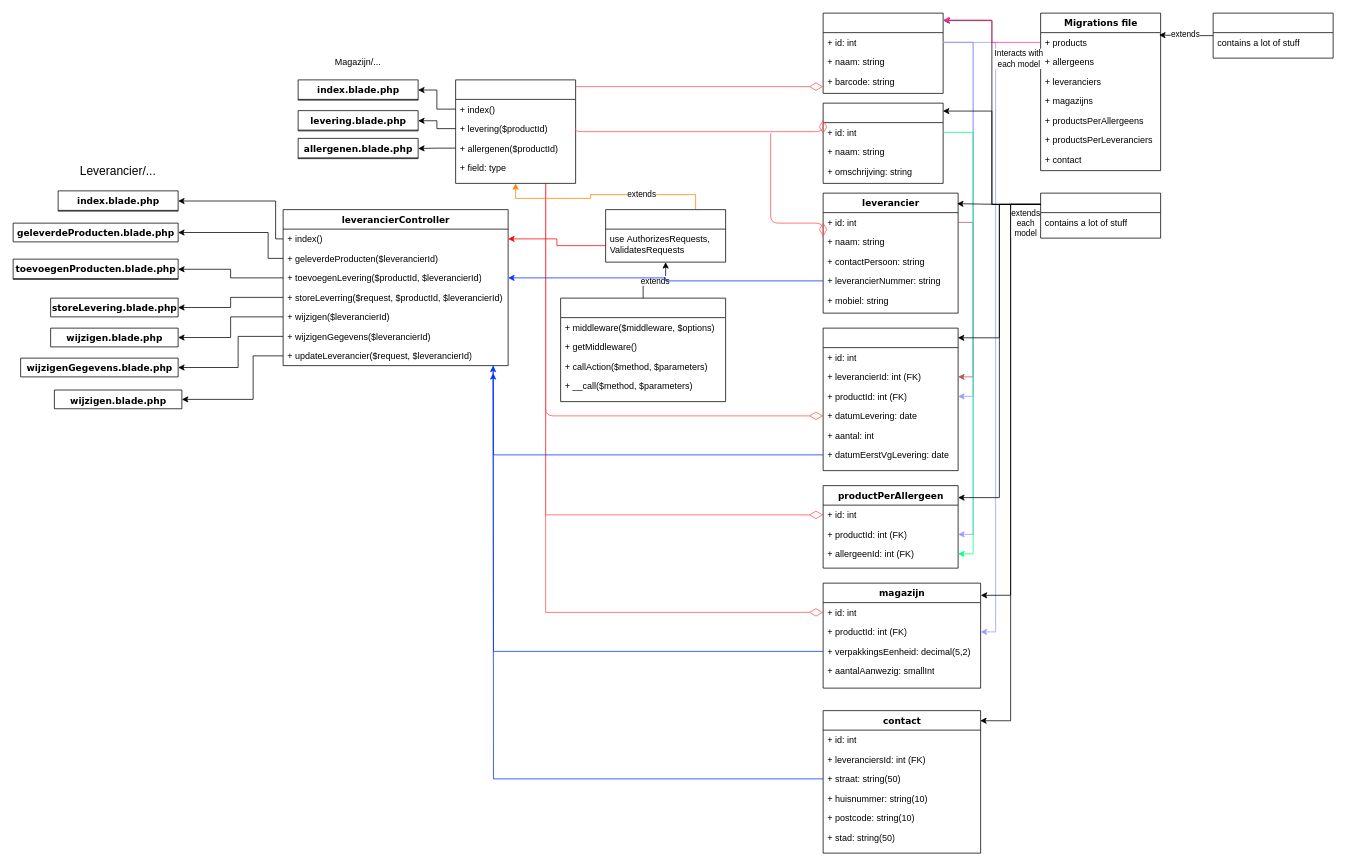
The diagram is 1346 pixels wide and 866 high, and some of its shapes have lost their labels. Here are the shapes that lost their labels. From the top down, the box of each, then its label:
(822, 12, 943, 93): product
(1212, 12, 1333, 58): migration
(455, 79, 576, 183): magazijnController
(822, 102, 943, 183): allergeen
(1040, 192, 1161, 238): model
(605, 209, 726, 262): Controller
(560, 297, 726, 402): BaseController
(822, 327, 958, 471): productPerLeverancier
